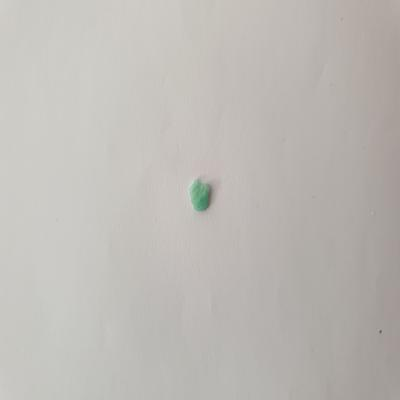plastic: (185, 173, 215, 215)
